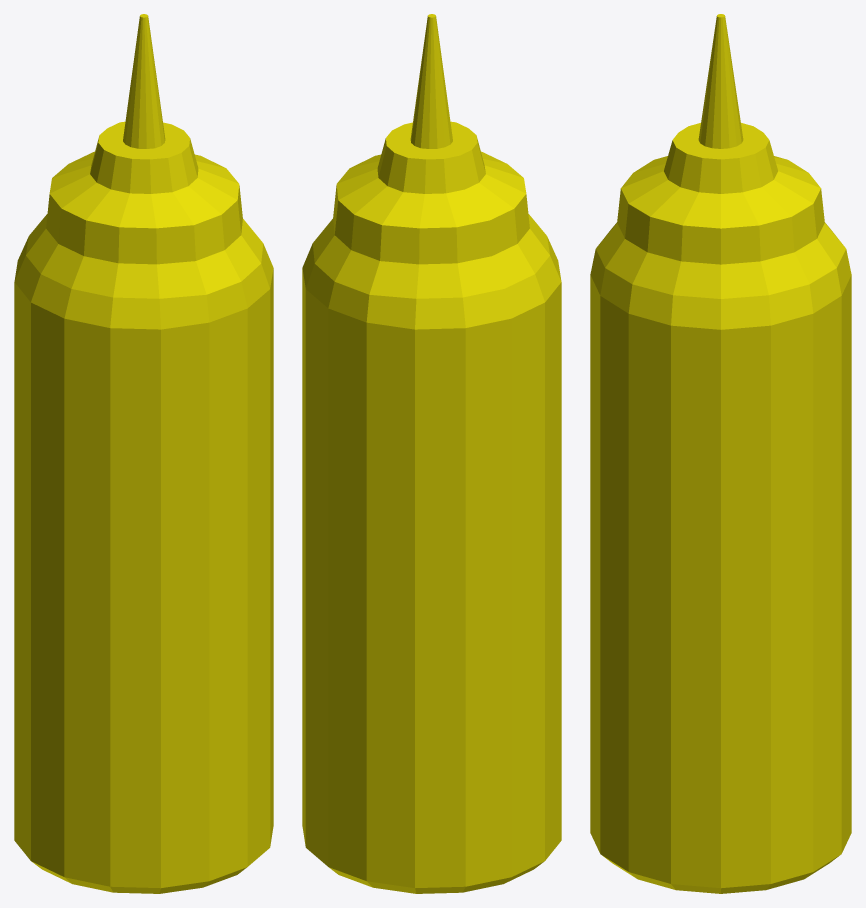
The model's file is Sauceboat.fbx.
3 renders of one model, left to right at view 1: azimuth 30°, elevation 25°; view 2: azimuth 150°, elevation 25°; view 3: azimuth 270°, elevation 25°, orthographic.
Parts seen in each view (by area): view 1: Cylinder.004; view 2: Cylinder.004; view 3: Cylinder.004.
Part boxes in pixels (bbox=[...]): Cylinder.004: bbox=[14, 14, 273, 893]; Cylinder.004: bbox=[302, 14, 561, 893]; Cylinder.004: bbox=[590, 14, 851, 893].
Bounding box in the file's own units: 13.72 × 48 × 13.72.
